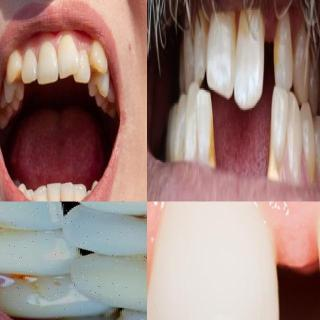calculus: (264, 140, 281, 190)
maligned: (236, 0, 267, 104), (208, 2, 235, 90), (268, 83, 288, 182), (194, 89, 212, 172), (274, 9, 294, 83), (174, 86, 190, 164), (192, 4, 205, 88), (56, 36, 78, 84), (181, 14, 193, 96), (187, 77, 199, 157), (167, 97, 181, 165), (173, 32, 187, 90), (90, 39, 110, 79), (4, 47, 22, 85), (306, 64, 318, 120), (311, 119, 320, 183), (75, 49, 91, 84), (316, 64, 320, 116)
stains: (2, 266, 37, 292), (271, 18, 283, 77), (205, 116, 216, 170)
